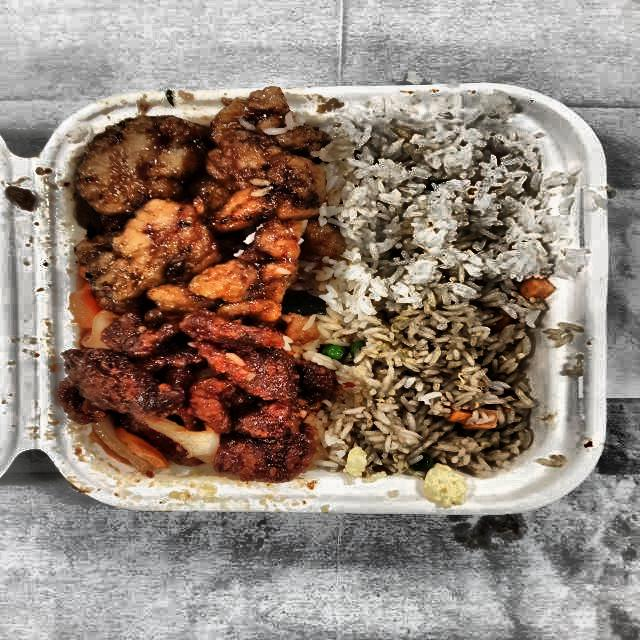Food: (61, 90, 329, 307), (321, 101, 570, 305), (59, 306, 336, 486), (308, 302, 538, 474)
